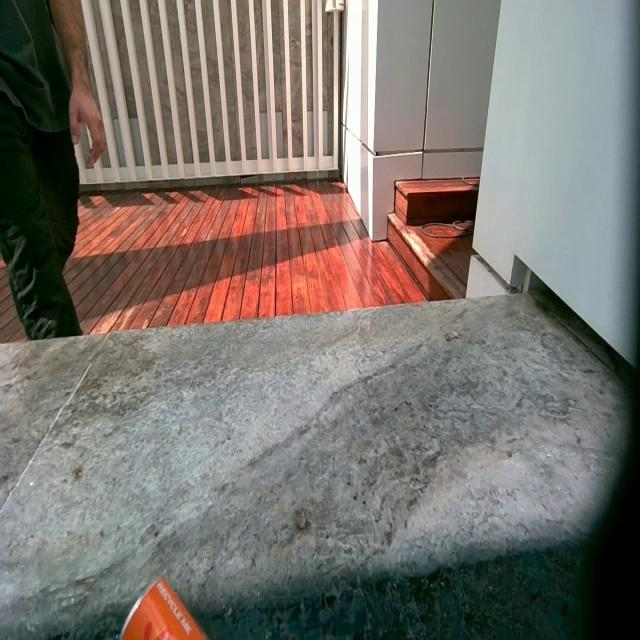Cans: (111, 582, 209, 640)
